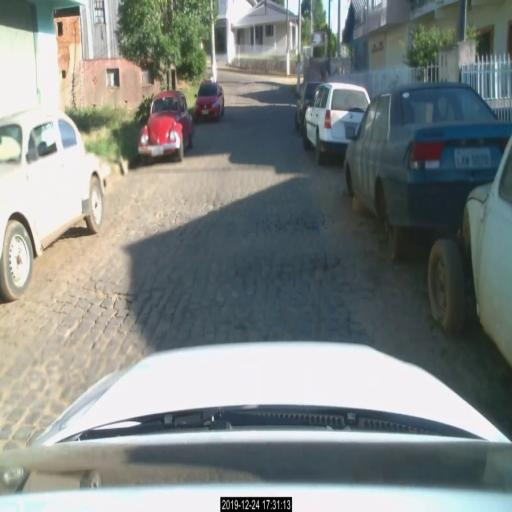Pothole: (81, 274, 145, 334)
